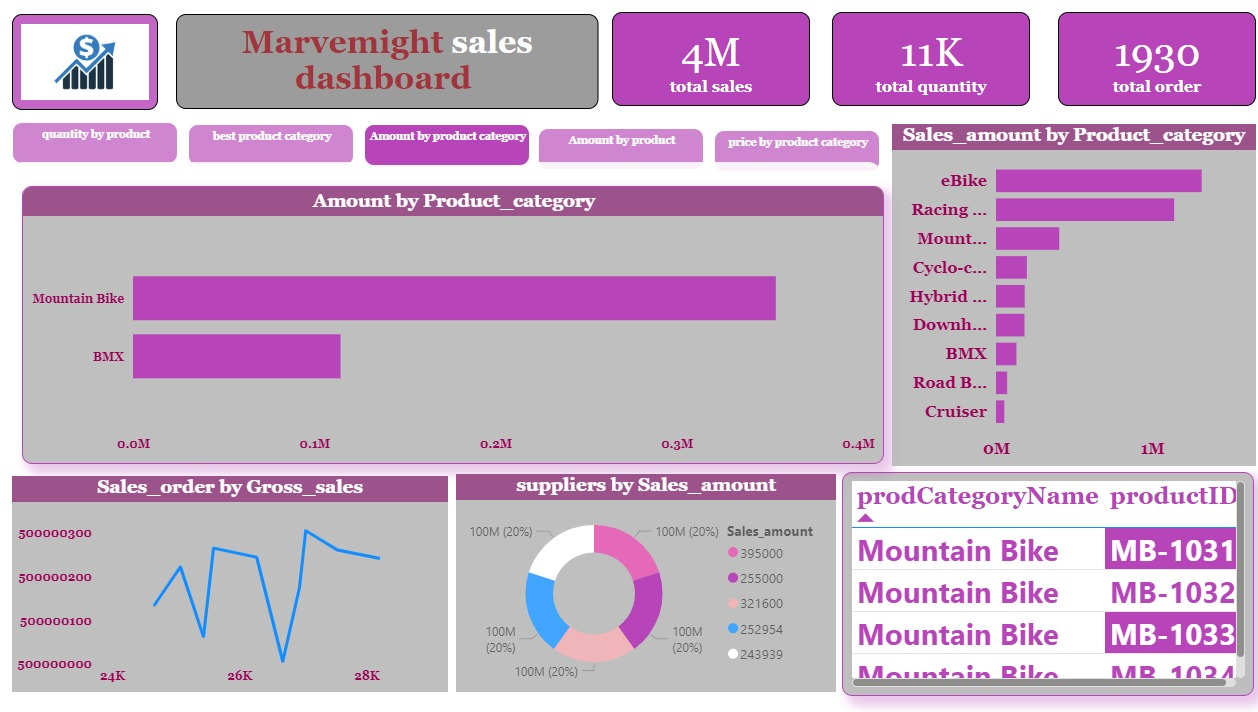

This screenshot's page, from the dashboard's own definition file:
{"tool":"powerbi","page":{"name":"product report","canvas":[1280,720],"ordinal":0},"visuals":[{"type":"group","id":"g1","title":"header","box":[18.5,14,1243.5,684],"z":0},{"type":"barChart","fields":{"Y":["Sum(Query2.price)"],"Category":["Query2.product_category"]},"box":[28,178,860,286],"z":0,"group":"g4"},{"type":"tableEx","fields":{"Values":["Query3.prodCategoryName","Query3.productID"]},"box":[848.5,474,412,224],"z":0,"group":"g1"},{"type":"actionButton","title":"price by product category","box":[720,130,166,42],"z":500,"group":"g3"},{"type":"textbox","box":[182.5,15,422.5,95],"z":1000,"group":"g1"},{"type":"group","id":"g2","title":"inactive btn","box":[18,124,868,50],"z":1000},{"type":"card","fields":{"Values":["final_project sales_order.total sales"]},"box":[618,14,198,94],"z":2000,"group":"g1"},{"type":"shape","box":[18,164,868,278],"z":2000},{"type":"actionButton","title":"price by product category","box":[720,132,166,42],"z":2500,"group":"g2"},{"type":"card","fields":{"Values":["final_project sales_order.total quantity"]},"box":[838,14,198,94],"z":3000,"group":"g1"},{"type":"group","id":"g3","title":"active btn","box":[18,122,868,50],"z":3000},{"type":"actionButton","title":"Amount by product","box":[544.5,130,166,42],"z":3000,"group":"g2"},{"type":"card","fields":{"Values":["final_project sales_order.total order"]},"box":[1064,14,198,94],"z":4000,"group":"g1"},{"type":"group","id":"g4","title":"chart","box":[20,178,870,296],"z":4000},{"type":"actionButton","title":"Amount by product category","box":[369,128,166,42],"z":4125,"group":"g2"},{"type":"actionButton","title":"best product category","box":[193.5,126,166,42],"z":4250,"group":"g2"},{"type":"actionButton","title":"quantity by product","box":[18,124,166,42],"z":4500,"group":"g2"},{"type":"image","box":[18.5,16,146,96],"z":5000,"group":"g1"},{"type":"barChart","fields":{"Category":["Query4.Product_category"],"Y":["Sum(Query4.Sales_amount)"]},"box":[898,126,364,342],"z":5000},{"type":"donutChart","fields":{"Category":["Query5.Sales_amount"],"Y":["Sum(Query5.suppliers)"]},"box":[462,476,380,218],"z":5001},{"type":"lineChart","fields":{"Category":["Query6.Gross_sales"],"Y":["Sum(Query6.Sales_order)"]},"box":[18,478,436,216],"z":5002}]}

Visuals, with their boxes in screenshot pixels (x1, y1, x2, y2), scaled from the page's 1280x720 canvas onto the 1258x712 screenshot:
"header" group: 18, 14, 1240, 690
barChart - Sum(Query2.price) x Query2.product_category: 28, 176, 873, 459
tableEx - Query3.prodCategoryName x Query3.productID: 834, 469, 1239, 690
"price by product category" actionButton: 708, 129, 871, 170
textbox: 179, 15, 595, 109
"inactive btn" group: 18, 123, 871, 172
card - final_project sales_order.total sales: 607, 14, 802, 107
shape: 18, 162, 871, 437
"price by product category" actionButton: 708, 131, 871, 172
card - final_project sales_order.total quantity: 824, 14, 1018, 107
"active btn" group: 18, 121, 871, 170
"Amount by product" actionButton: 535, 129, 698, 170
card - final_project sales_order.total order: 1046, 14, 1240, 107
"chart" group: 20, 176, 875, 469
"Amount by product category" actionButton: 363, 127, 526, 168
"best product category" actionButton: 190, 125, 353, 166
"quantity by product" actionButton: 18, 123, 181, 164
image: 18, 16, 162, 111
barChart - Query4.Product_category x Sum(Query4.Sales_amount): 883, 125, 1240, 463
donutChart - Query5.Sales_amount x Sum(Query5.suppliers): 454, 471, 828, 686
lineChart - Query6.Gross_sales x Sum(Query6.Sales_order): 18, 473, 446, 686
